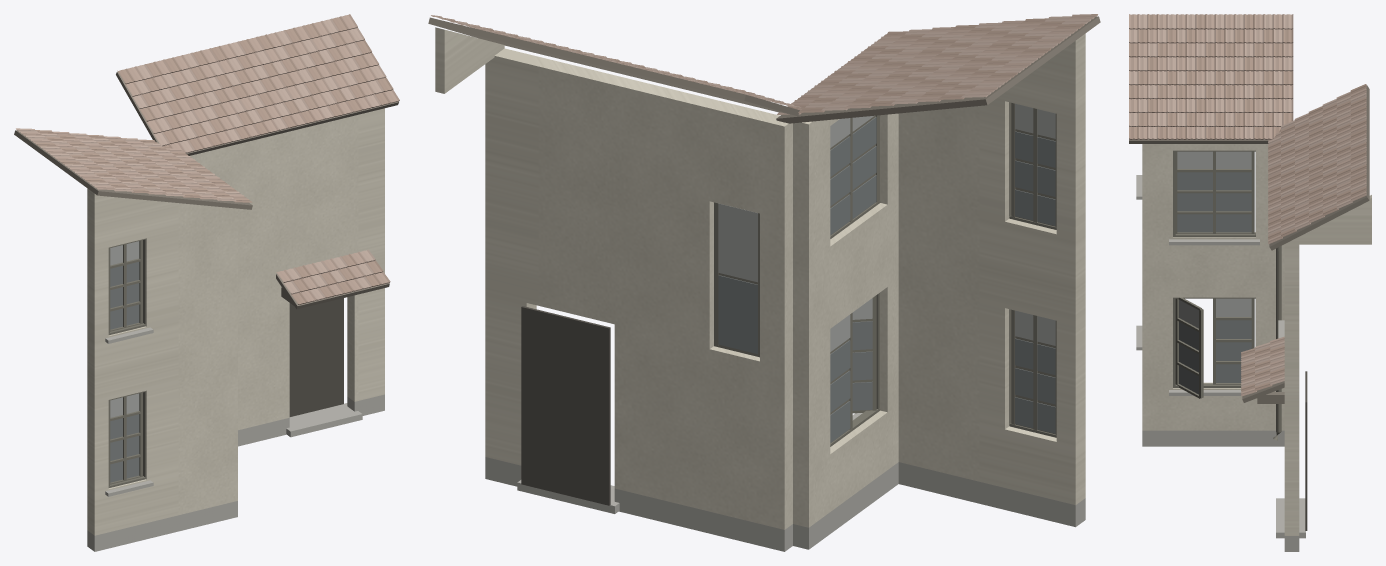
Rendered from caoyang-1952-workers-entry-near.glb.
3 views of the same model, side by side, from view 1: azimuth 30°, elevation 25°; view 2: azimuth 150°, elevation 25°; view 3: azimuth 270°, elevation 25° (orthographic). The views are drawn at different scales.
Parts seen in each view (by area): view 1: 曹杨一村工人住宅折角门廊与窄窗; view 2: 曹杨一村工人住宅折角门廊与窄窗; view 3: 曹杨一村工人住宅折角门廊与窄窗.
Part boxes in pixels (x1,y1,x2,y2): 曹杨一村工人住宅折角门廊与窄窗: (14,14,399,551); 曹杨一村工人住宅折角门廊与窄窗: (428,14,1100,551); 曹杨一村工人住宅折角门廊与窄窗: (1129,14,1371,551).
Bounding box in the file's own units: 6.38 × 6.02 × 3.65.
10 materials, 1 textured.
